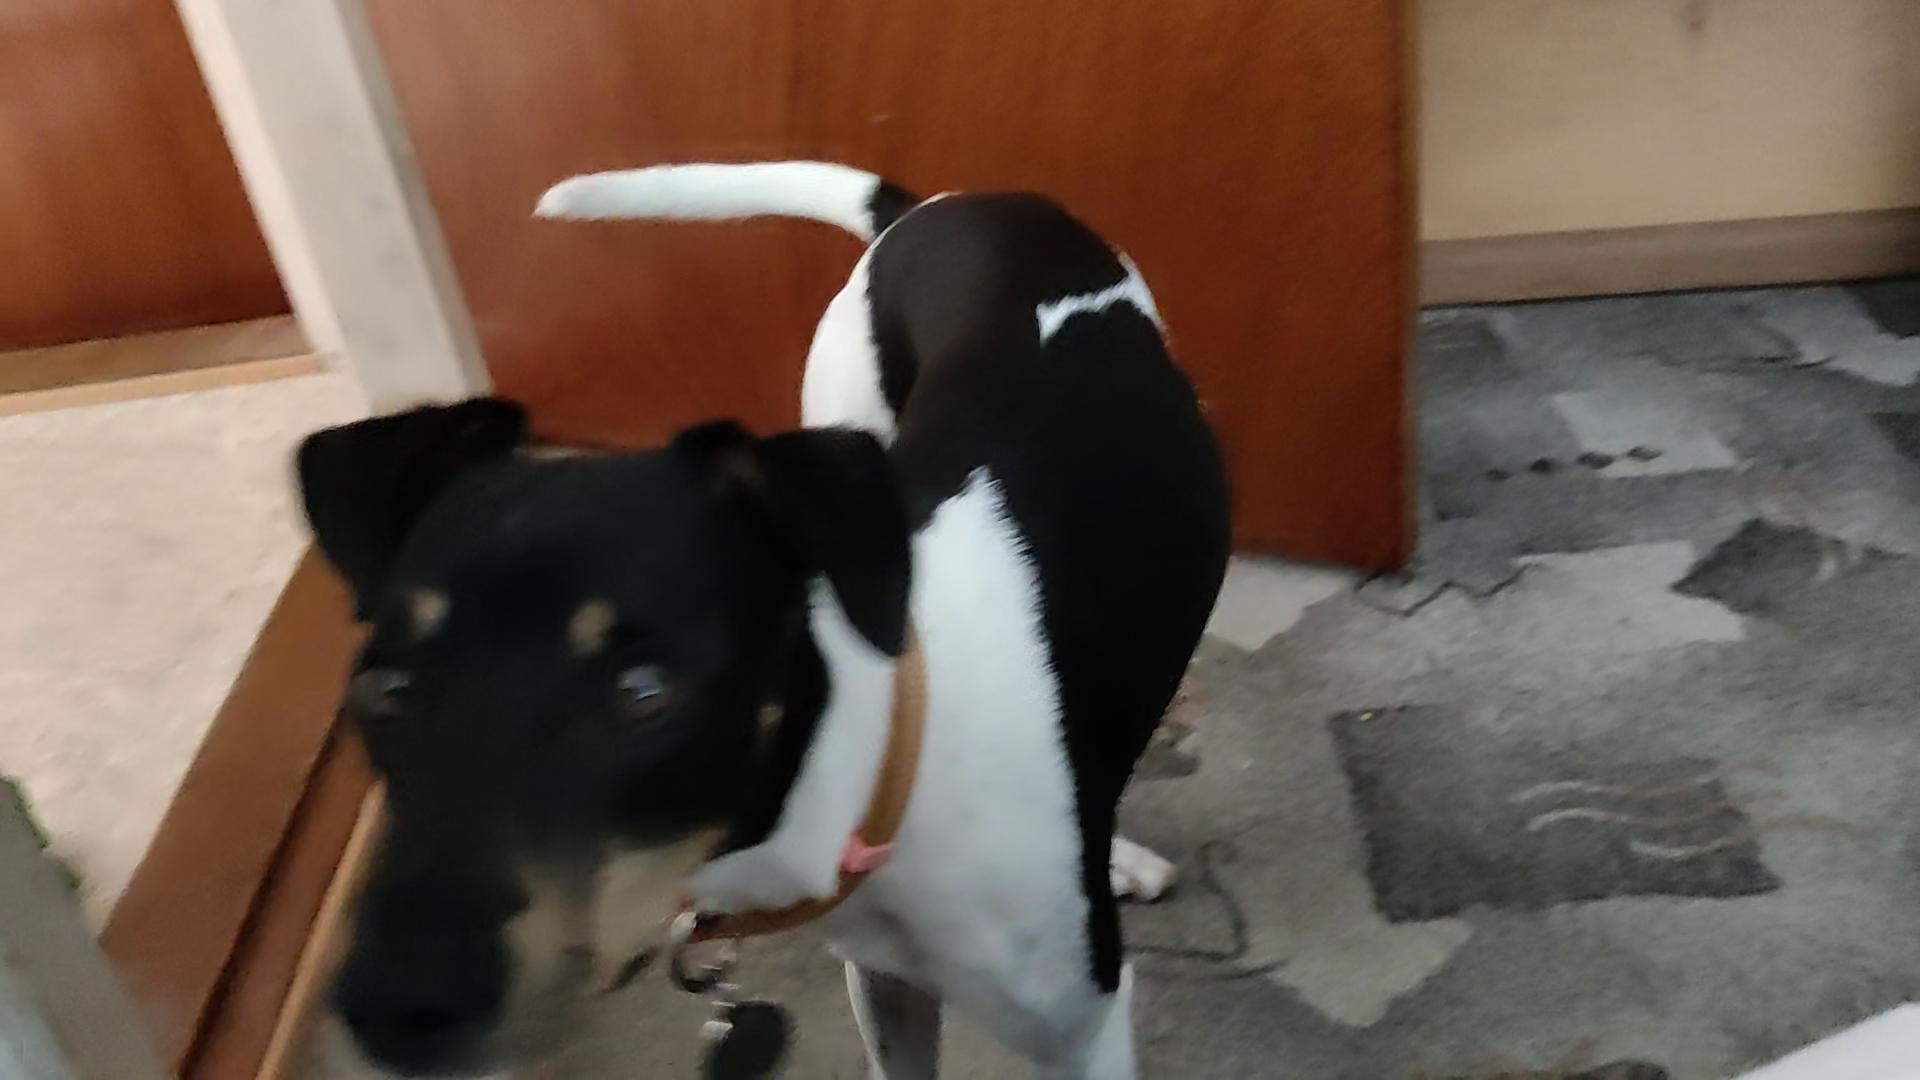Dog: (295, 145, 1244, 1079)
